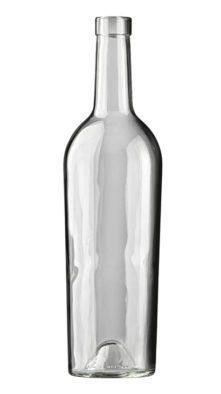glass_bottle: (50, 9, 173, 389)
